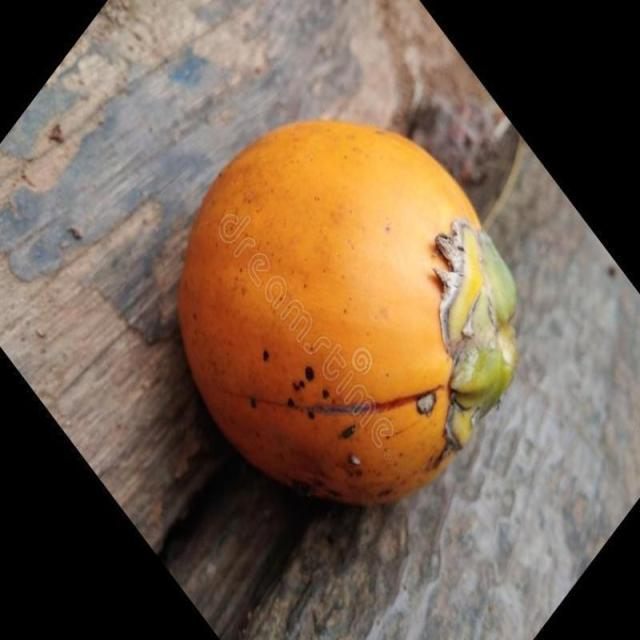good: (179, 121, 516, 503)
